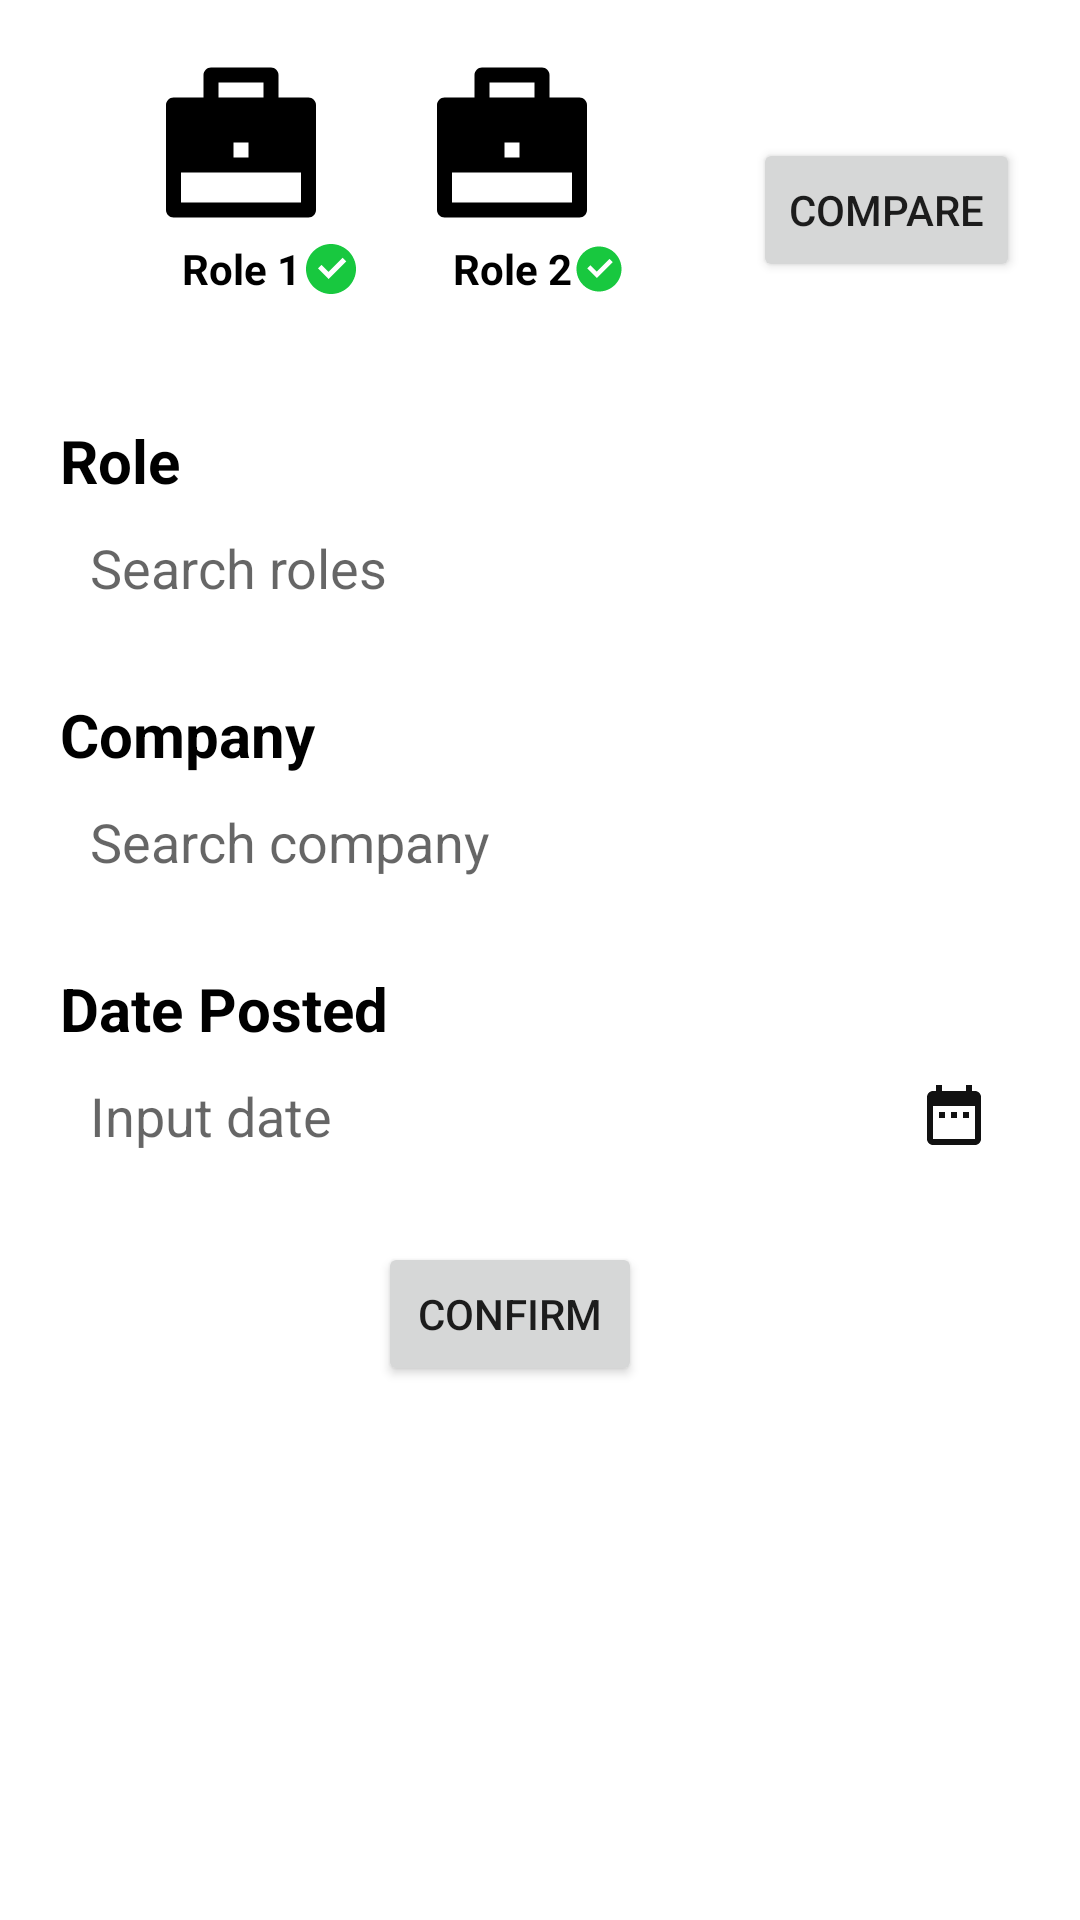

Locate icon controls on the screen. Image size 1080×1920, boxes as (x1, y1, x2, y2).
check: (306, 244, 356, 294), (576, 246, 622, 292)
date range: (927, 1085, 981, 1145)
jobs: (166, 67, 316, 218), (437, 67, 587, 218)
